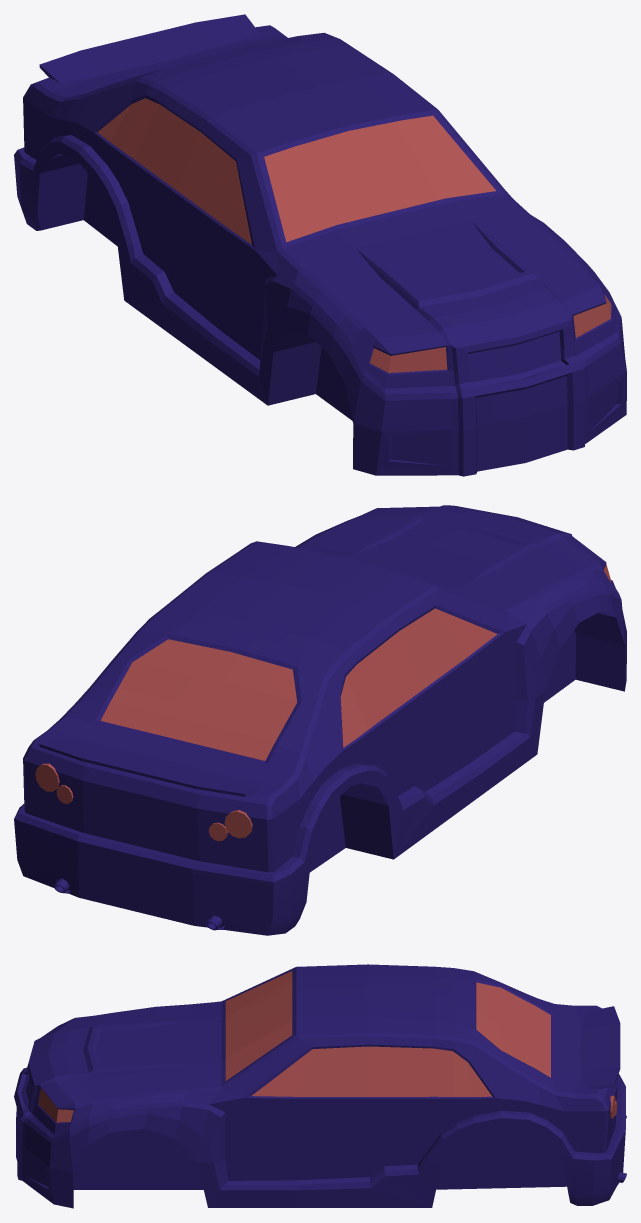
File: NightSky_Body.gltf
3 views of the same model, one above another, from view 1: azimuth 30°, elevation 25°; view 2: azimuth 150°, elevation 25°; view 3: azimuth 270°, elevation 25° (orthographic). The views are drawn at different scales.
Parts seen in each view (by area): view 1: Sport_Body; view 2: Sport_Body; view 3: Sport_Body.
Boxes of the visible parts, bbox=[...] form: Sport_Body: bbox=[14, 14, 626, 476]; Sport_Body: bbox=[14, 505, 626, 935]; Sport_Body: bbox=[14, 964, 626, 1208].
Size of the model in its own units: 1.66 by 1.22 by 4.16.
